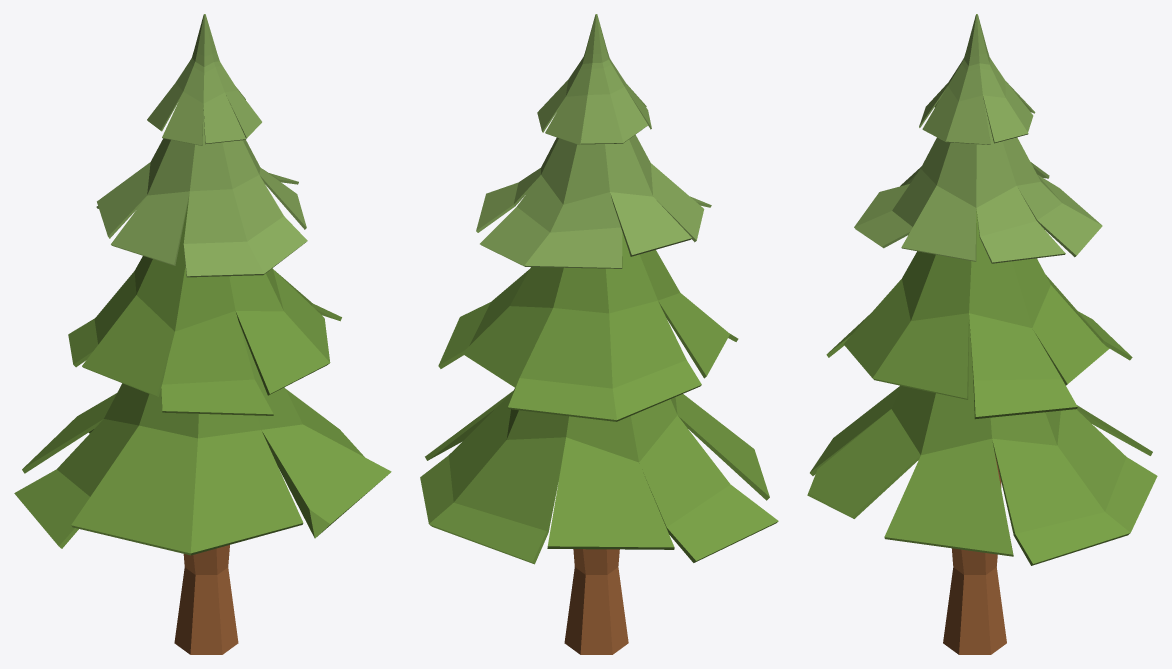
Rendered from Christmas Tree_2.fbx.
3 renders of one model, left to right at view 1: azimuth 30°, elevation 25°; view 2: azimuth 150°, elevation 25°; view 3: azimuth 270°, elevation 25°, orthographic.
Parts seen in each view (by area): view 1: M_Christmas Tree 2; view 2: M_Christmas Tree 2; view 3: M_Christmas Tree 2.
Part boxes in pixels (x1,y1,x2,y2): M_Christmas Tree 2: (14,14,391,654); M_Christmas Tree 2: (420,14,778,654); M_Christmas Tree 2: (807,14,1157,654).
Bounding box in the file's own units: 139 × 263 × 133.
Materials: 1 (1 with a texture image).
